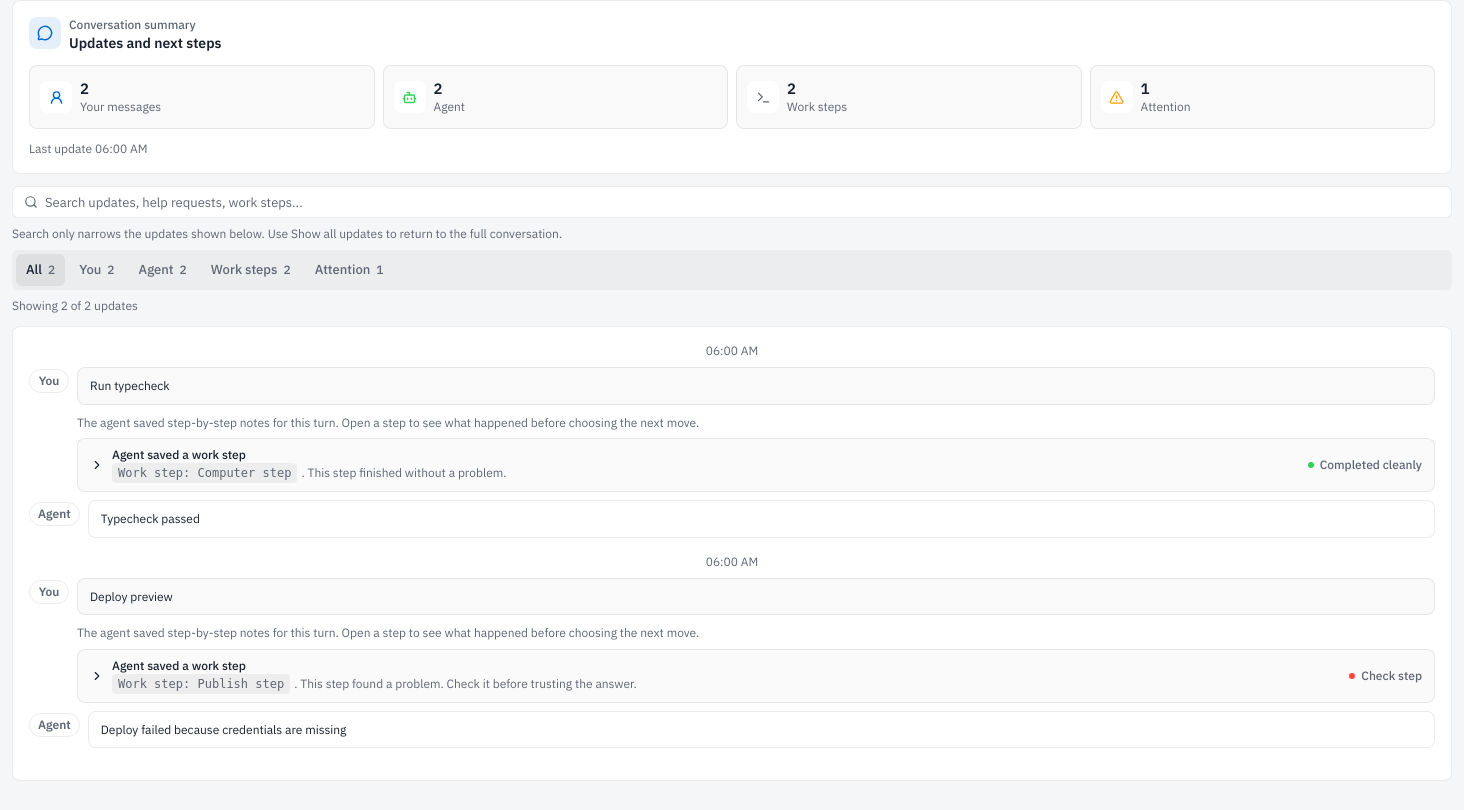
Test: ChatView › summarizes CLI turns with tools and failed tool attention
Expected: the 1st text "2" is shown, [80,79,89,98]
Expected: the 2nd text "2" is shown, [434,79,442,98]
Click the button with aria-label "show updates that need your next step, 1 matching update" at (349, 270), box [305,254,394,286]
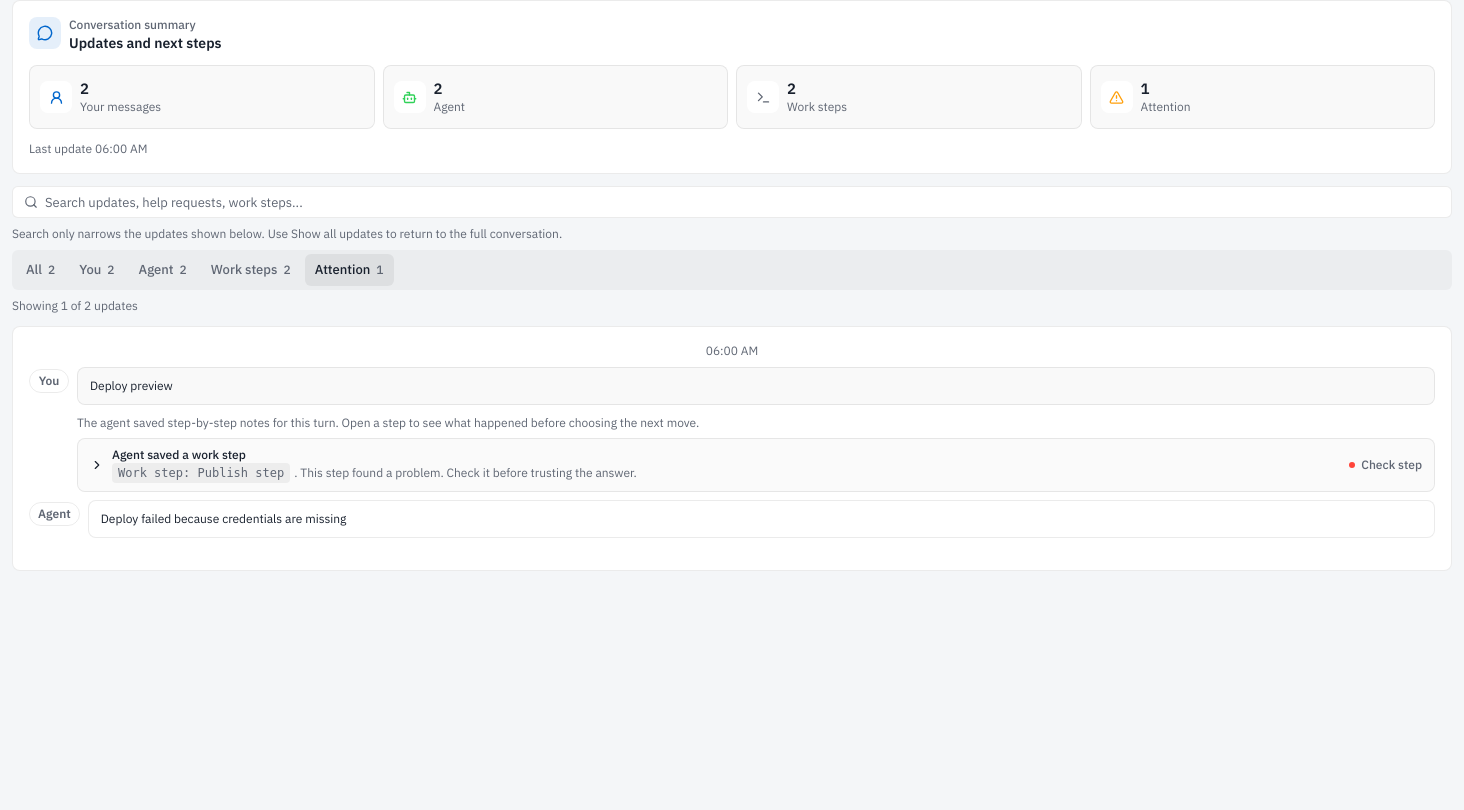
Expected: the text "Deploy failed because credentials are missing" is shown, [88,500,1435,538]
Expected: the text "Typecheck passed" is gone
